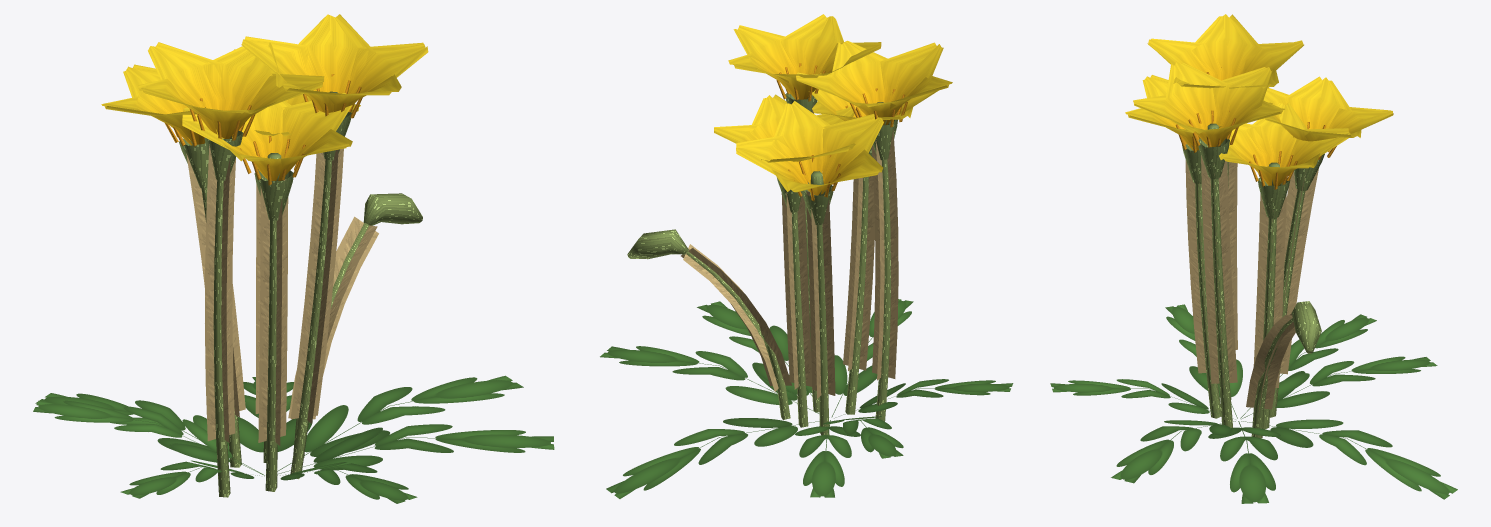
Rendered from arctic_poppy_v01_LOD1.fbx.
3 renders of one model, left to right at view 1: azimuth 30°, elevation 25°; view 2: azimuth 150°, elevation 25°; view 3: azimuth 270°, elevation 25°, orthographic. The views are drawn at different scales.
Visible parts, largest first — view 1: arctic_poppy_v01_LOD1; view 2: arctic_poppy_v01_LOD1; view 3: arctic_poppy_v01_LOD1.
Part boxes in pixels (bbox=[...]): arctic_poppy_v01_LOD1: bbox=[33, 14, 554, 503]; arctic_poppy_v01_LOD1: bbox=[600, 14, 1013, 498]; arctic_poppy_v01_LOD1: bbox=[1050, 14, 1457, 503].
Size of the model in its own units: 15.7 by 15.7 by 15.07.
Materials: 5 (5 with a texture image).
